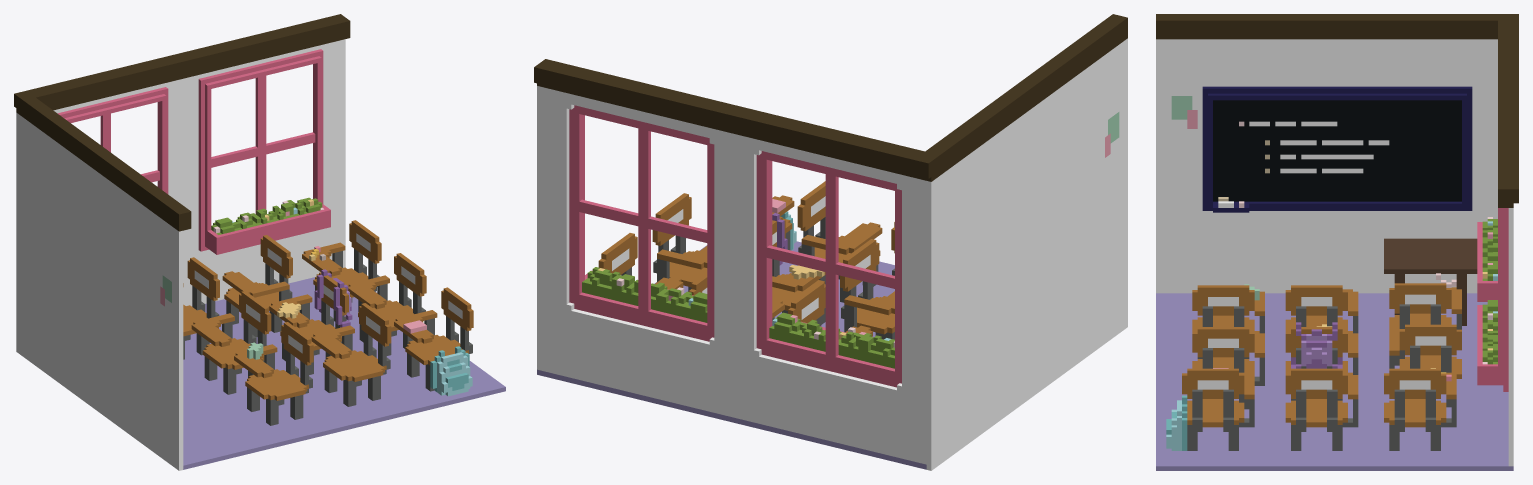
3 views of the same model, side by side, from view 1: azimuth 30°, elevation 25°; view 2: azimuth 150°, elevation 25°; view 3: azimuth 270°, elevation 25° (orthographic). The views are drawn at different scales.
Visible parts, largest first — view 1: Untitled; view 2: Untitled; view 3: Untitled.
Part boxes in pixels (x1=…): Untitled: x1=14, y1=14, x2=505, y2=470; Untitled: x1=534, y1=14, x2=1127, y2=470; Untitled: x1=1156, y1=14, x2=1518, y2=470.
Bounding box in the file's own units: 16 × 12 × 14.
1 material, 1 textured.
